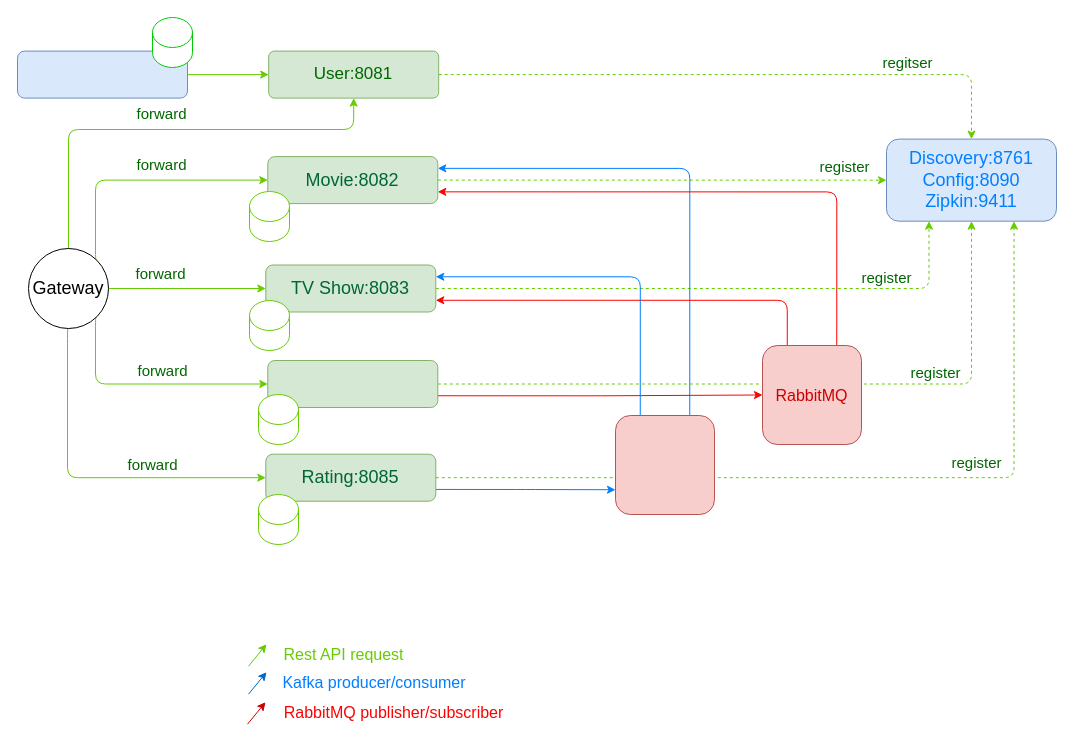
The diagram is 1074 pixels wide and 750 high, and some of its shapes have lost their labels. The shapes that lost their labels are listed below. From the top down, each one's centre as x and y in pixels, then its label:
point 102,74: Keycloak:8080
point 352,384: Comment:8084
point 664,464: Kafka
